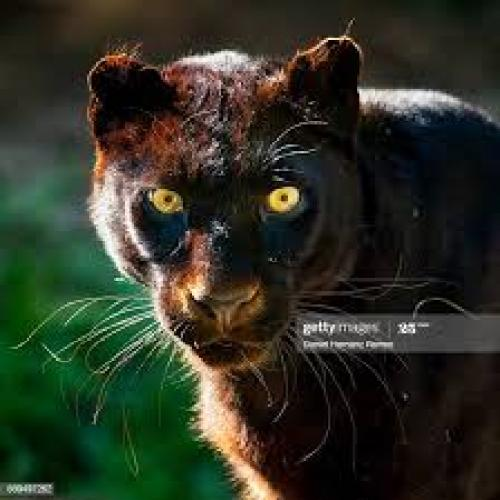panther-endangered: (78, 35, 500, 500)
